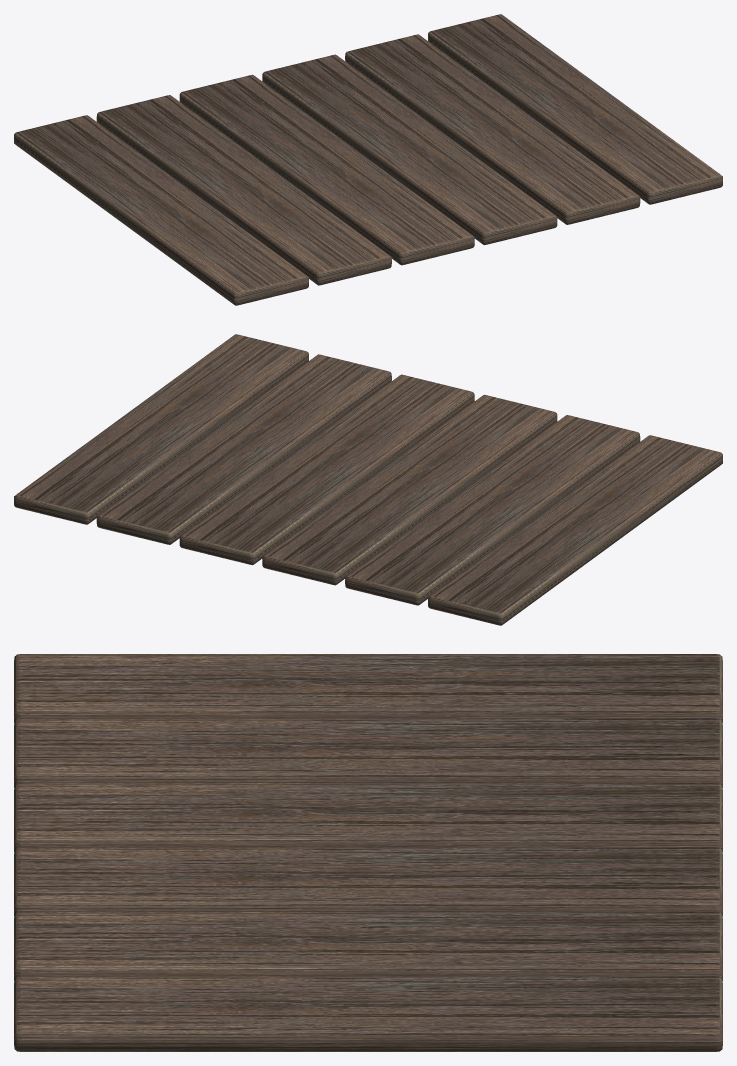
Rendered from floor_001.glb.
3 views of the same model, one above another, from view 1: azimuth 30°, elevation 25°; view 2: azimuth 150°, elevation 25°; view 3: azimuth 270°, elevation 25° (orthographic). The views are drawn at different scales.
Parts seen in each view (by area): view 1: Cube; view 2: Cube; view 3: Cube.
Part boxes in pixels (box(x1,y1,x2,y2)): Cube: box(14, 14, 722, 305); Cube: box(14, 334, 722, 625); Cube: box(14, 654, 722, 1051).
Size of the model in its own units: 4.74 by 0.1179 by 3.73.
Materials: 1 (1 with a texture image).
